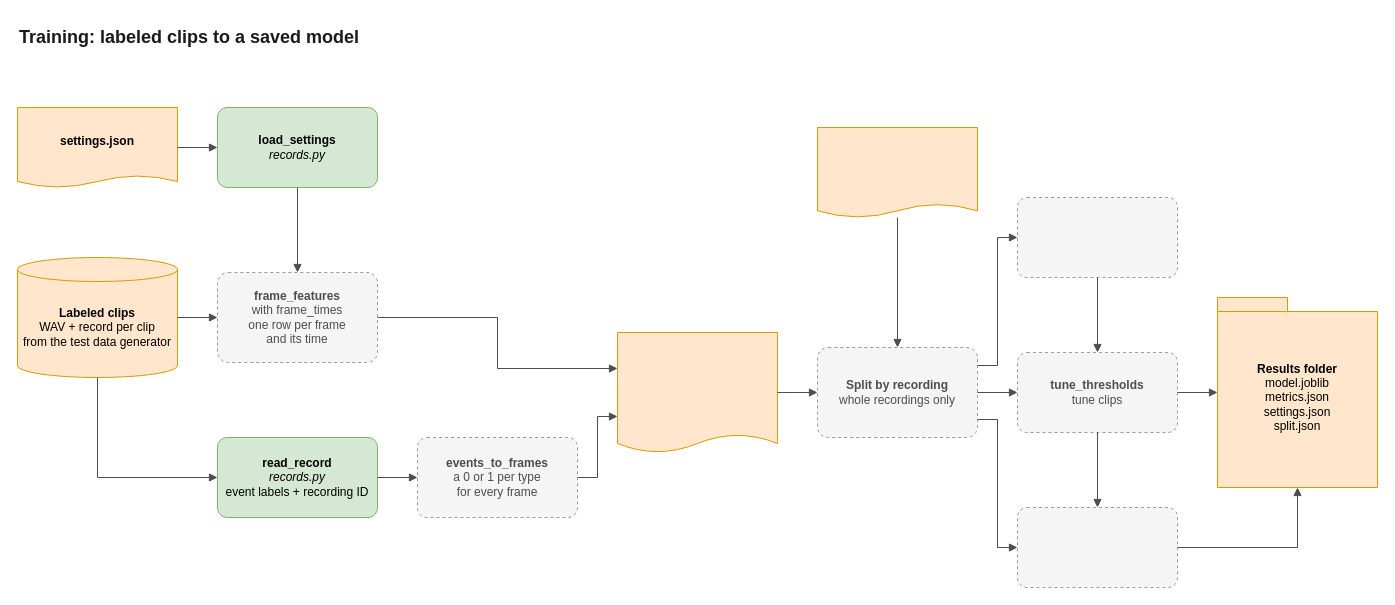
Image size: 1395x605. Some labels were removed from this diagram. The shapes that lost their labels are listed below. From the top down, each one's box as (x1, y1, x2, y2) in pixels, then its label:
(816, 126, 978, 218): Recording split train · tune · test shared by both models
(1016, 196, 1178, 278): EventModel.fit train clips
(616, 332, 778, 452): Frames per clip features · times · targets labeled events clip and recording ID
(1016, 506, 1178, 588): evaluate test clips
